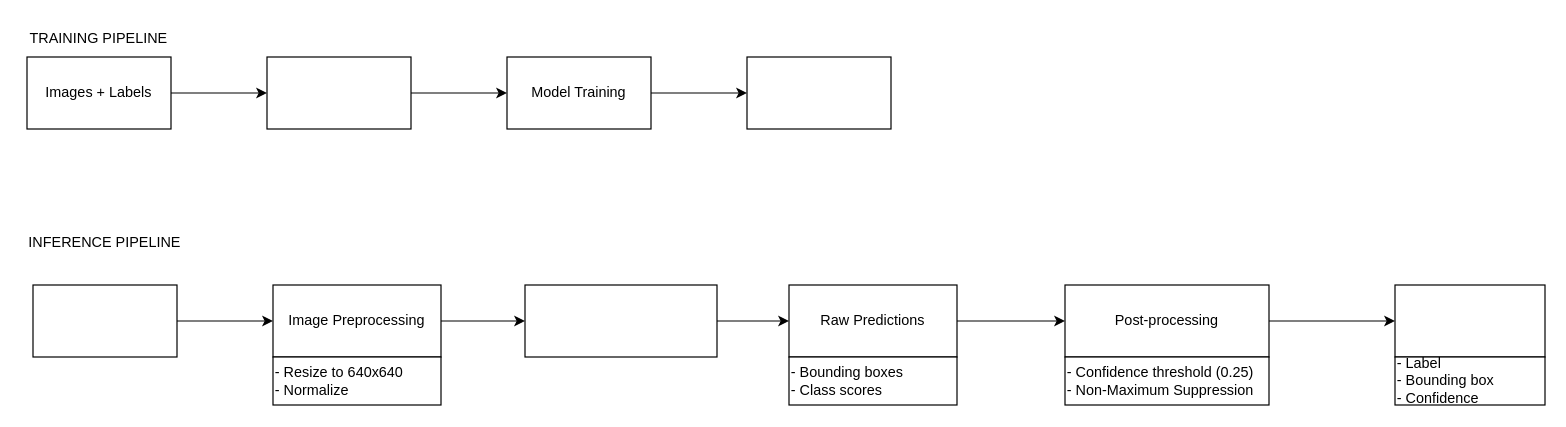
The diagram is 1566 pixels wide and 427 high, and some of its shapes have lost their labels. The centre of each missing label's shape, as x and y in pixels:
"Detected Ingredients" belongs at [1469,320].
"Input Image" belongs at [104,320].
"Trained Model (best.pt)" belongs at [818,92].
"YOLOv11 Pretrained (yolo11s.pt)" belongs at [338,92].
"YOLOv11 Trained Model" belongs at [620,320].
